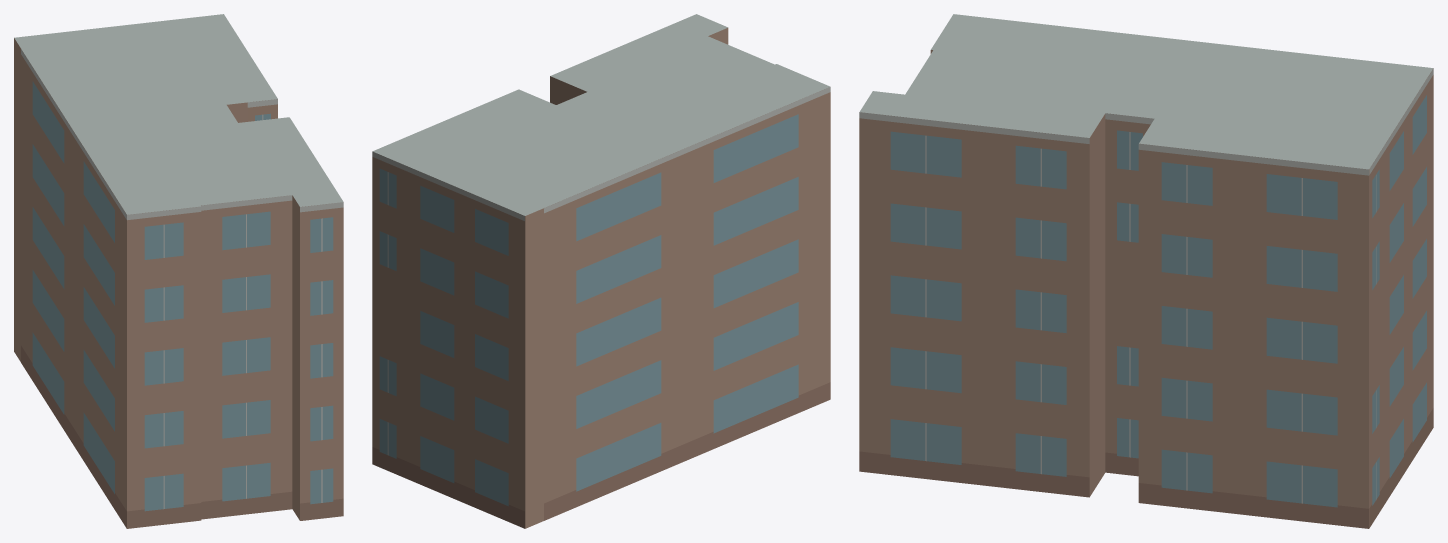
Rendered from survey-upis-32617081.glb.
The picture shows the model from 3 angles, left to right: view 1: azimuth 30°, elevation 25°; view 2: azimuth 150°, elevation 25°; view 3: azimuth 270°, elevation 25°; orthographic projection. The views are drawn at different scales.
Parts seen in each view (by area): view 1: survey-upis-32617081.tmp; view 2: survey-upis-32617081.tmp; view 3: survey-upis-32617081.tmp.
Boxes of the visible parts, x1,y1,x2,y2 form: survey-upis-32617081.tmp: (14,14,343,528); survey-upis-32617081.tmp: (372,14,830,528); survey-upis-32617081.tmp: (859,14,1433,528).
Bounding box in the file's own units: 13.28 × 14.3 × 20.72.
